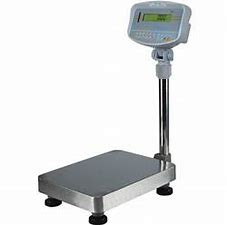Industrial Scale: (37, 1, 192, 224)
